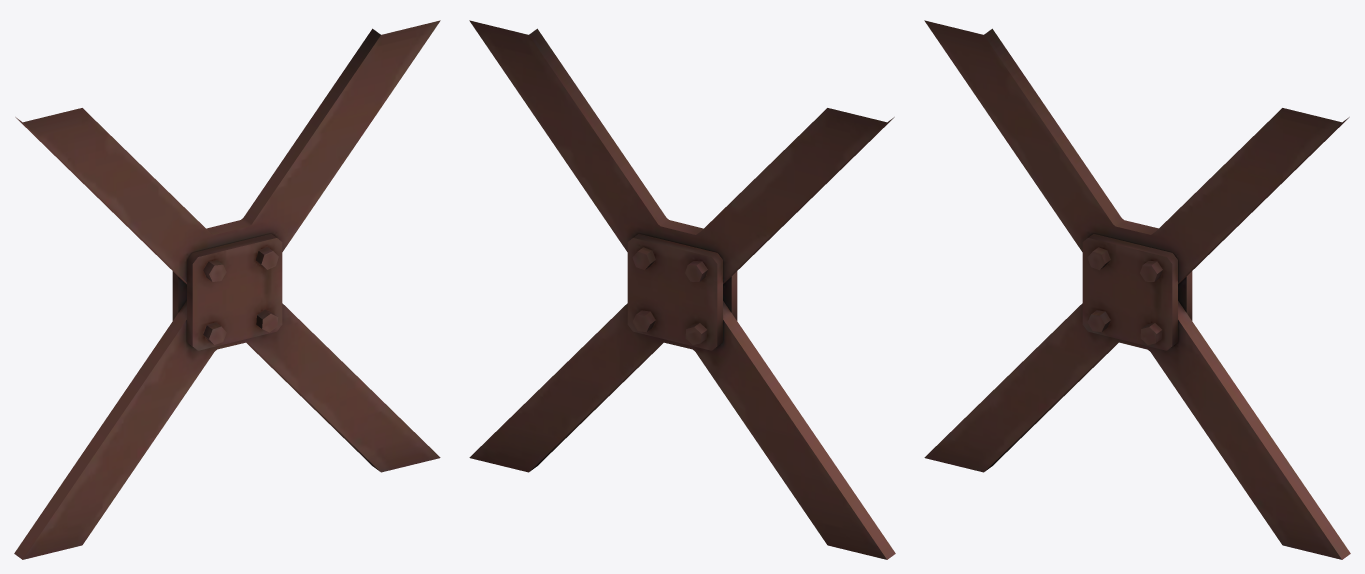
3 views of the same model, side by side, from view 1: azimuth 30°, elevation 25°; view 2: azimuth 150°, elevation 25°; view 3: azimuth 330°, elevation 25° (orthographic).
Visible parts, largest first — view 1: body0_model0_lod0_mesh0; view 2: body0_model0_lod0_mesh0; view 3: body0_model0_lod0_mesh0.
Boxes of the visible parts, box(x1,y1,x2,y2) form: body0_model0_lod0_mesh0: box(14, 20, 440, 559); body0_model0_lod0_mesh0: box(469, 20, 895, 559); body0_model0_lod0_mesh0: box(924, 20, 1350, 559).
Size of the model in its own units: 224 by 224 by 29.34.
Materials: 1 (1 with a texture image).
